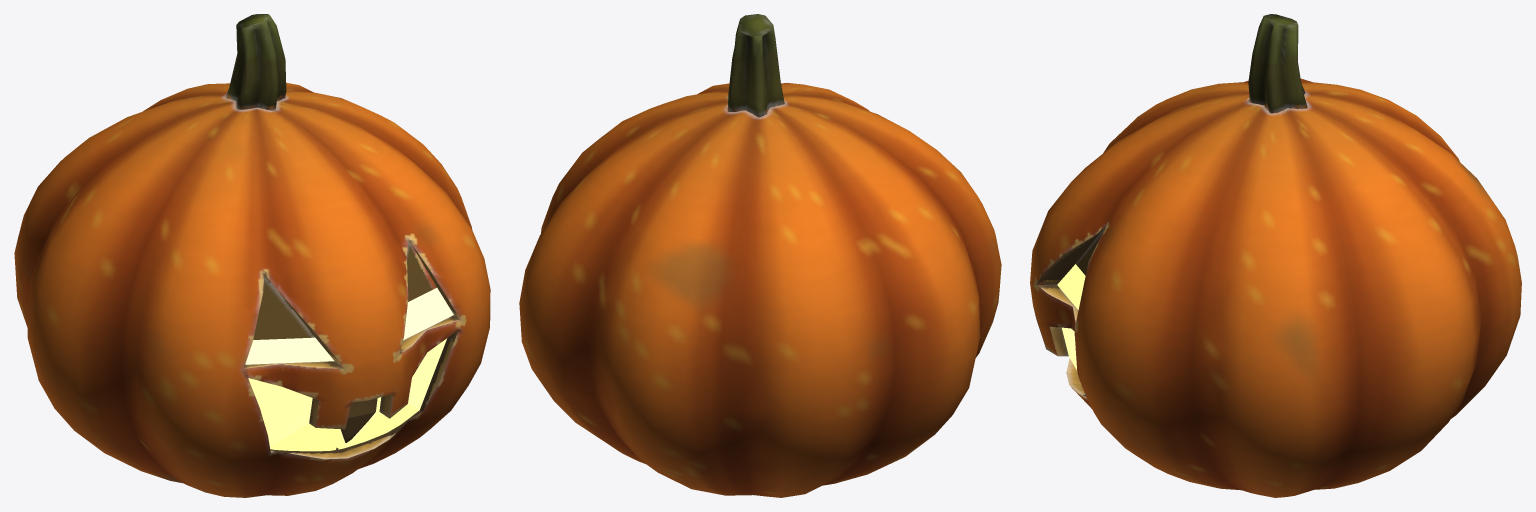
The model's file is jack_o_lantern.glb.
The picture shows the model from 3 angles, left to right: view 1: azimuth 30°, elevation 25°; view 2: azimuth 150°, elevation 25°; view 3: azimuth 270°, elevation 25°; orthographic projection.
Parts seen in each view (by area): view 1: jack_o_lantern, face_glow; view 2: jack_o_lantern; view 3: jack_o_lantern, face_glow.
Boxes of the visible parts, x1,y1,x2,y2 form: jack_o_lantern: (14,14,490,497); face_glow: (245,288,453,451); jack_o_lantern: (519,14,1001,497); jack_o_lantern: (1030,14,1521,497); face_glow: (1057,264,1085,369).
Bounding box in the file's own units: 1.35 × 1.4 × 1.34.
Materials: 2 (1 with a texture image).
